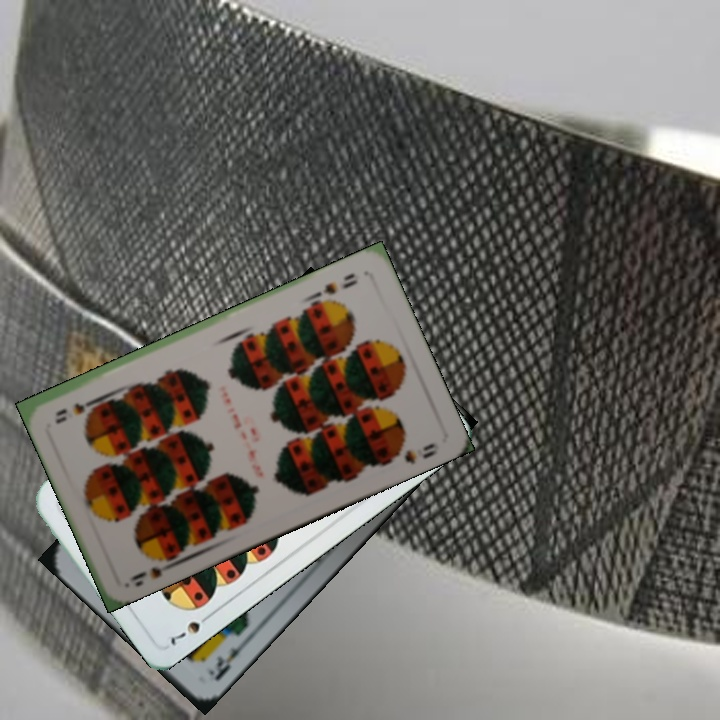EK: (203, 636, 251, 683)
S7: (164, 608, 215, 648)
S9: (123, 549, 179, 590), (314, 269, 361, 305)
